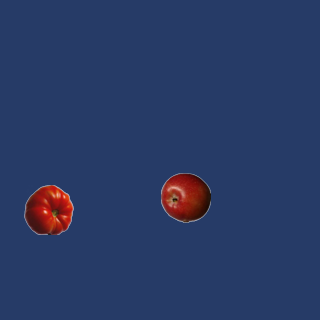Apple Braeburn: (160, 172, 210, 222)
Tomato 3: (23, 184, 73, 234)
